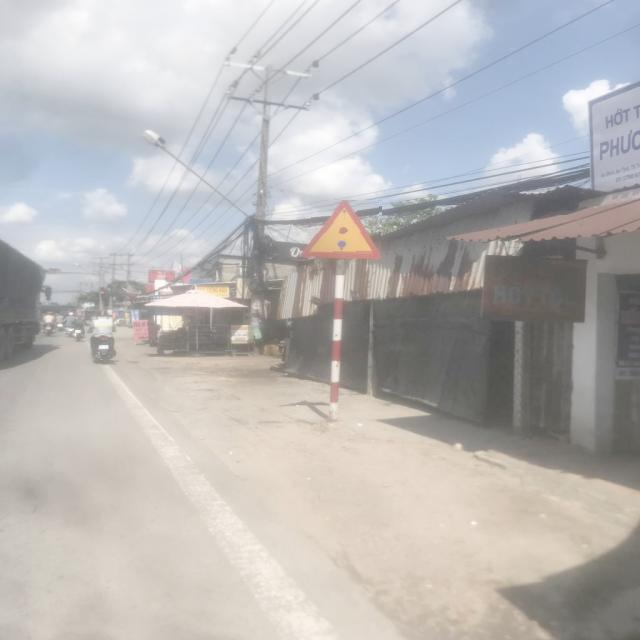209-giao-nhau-co-tin-hieu-den: (302, 199, 382, 259)
